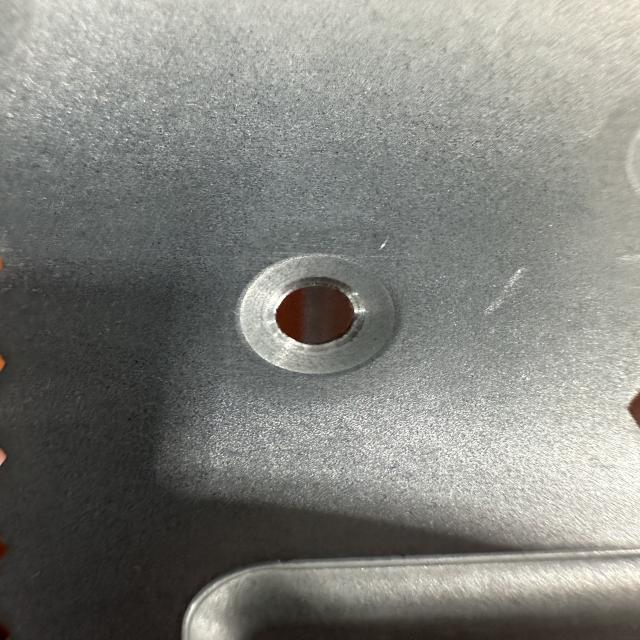Missing screw: (214, 242, 417, 386)
